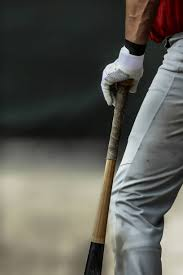baseball bat: (81, 73, 137, 275)
